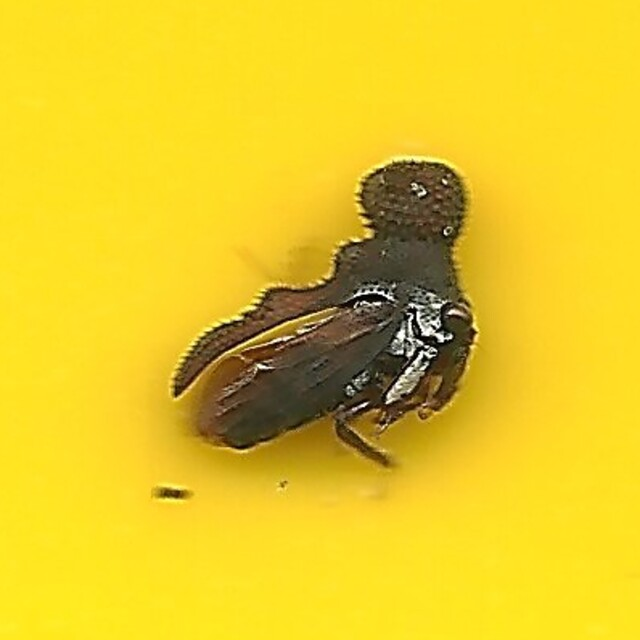Hemiptera: (161, 154, 479, 486)
